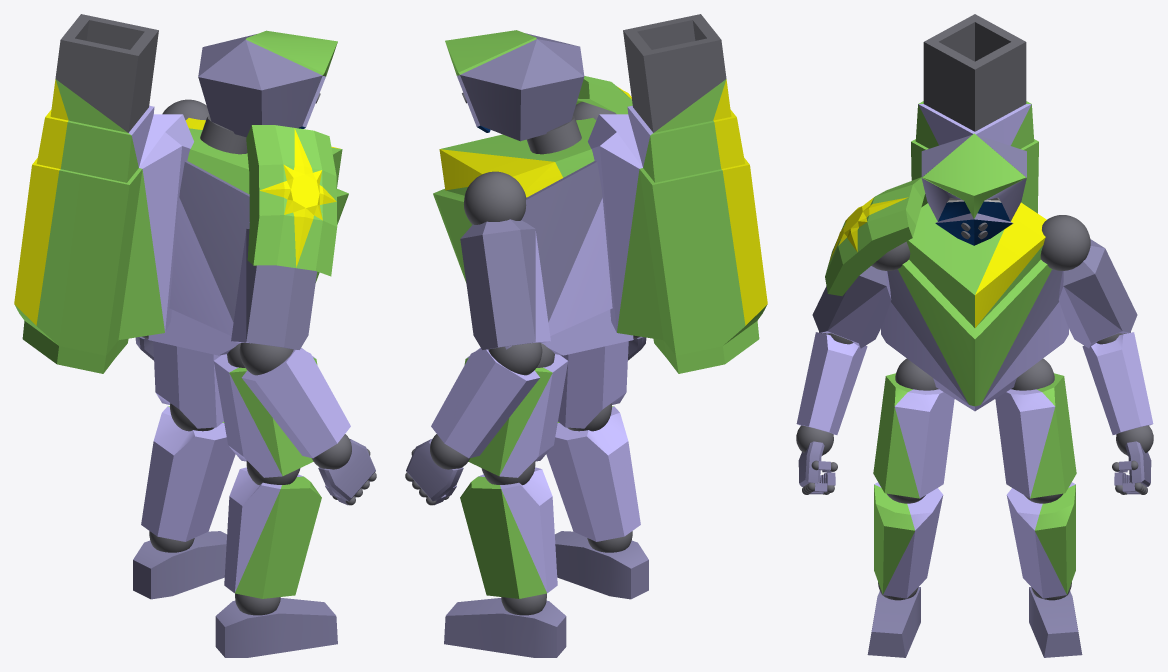
Rendered from lobbergreen.fbx.
3 views of the same model, side by side, from view 1: azimuth 30°, elevation 25°; view 2: azimuth 150°, elevation 25°; view 3: azimuth 270°, elevation 25° (orthographic). The views are drawn at different scales.
Parts seen in each view (by area): view 1: polySurface35; view 2: polySurface35; view 3: polySurface35.
Boxes of the visible parts, x1=… form: polySurface35: x1=14, y1=14, x2=376, y2=657; polySurface35: x1=405, y1=14, x2=767, y2=657; polySurface35: x1=796, y1=14, x2=1153, y2=657.
Bounding box in the file's own units: 6.64 × 11.62 × 6.88.
